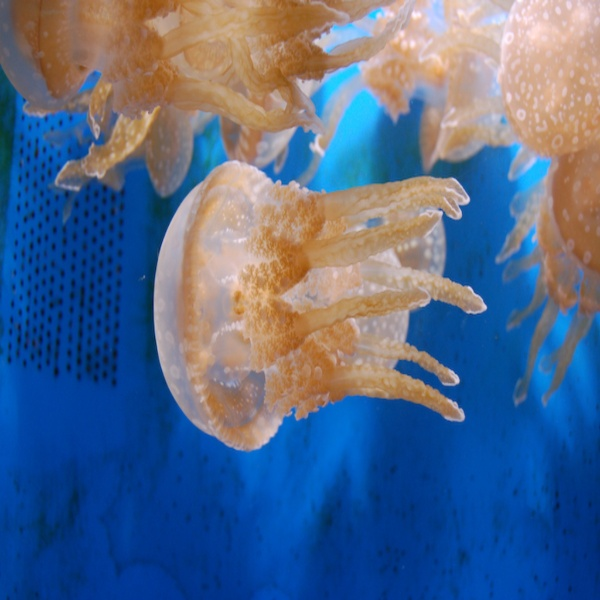Jellyfish: (0, 0, 600, 453)
